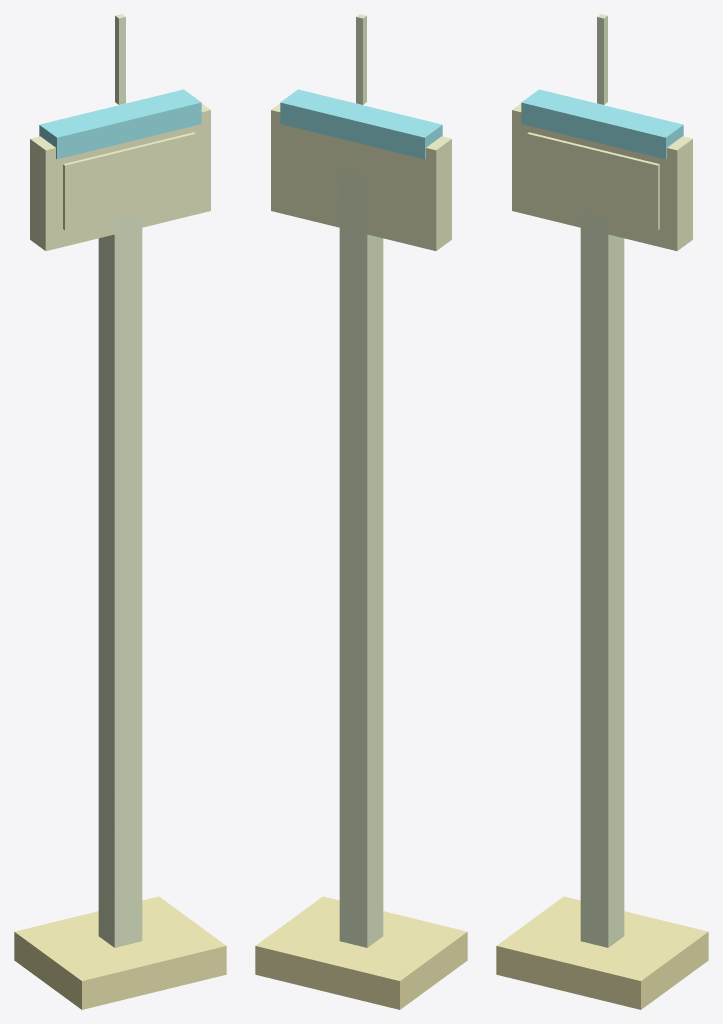
The model's file is furniture_real_time_arrival_display.glb.
The picture shows the model from 3 angles, left to right: view 1: azimuth 30°, elevation 25°; view 2: azimuth 150°, elevation 25°; view 3: azimuth 330°, elevation 25°; orthographic projection.
Visible parts, largest first — view 1: pole, base, display_screen, display_body, display_header, antenna; view 2: pole, display_body, base, display_header, antenna; view 3: pole, base, display_screen, display_body, display_header, antenna.
Part boxes in pixels (x1,y1,x2,y2): pole: (98,212,142,947); base: (14,896,226,1009); display_screen: (63,132,195,230); display_body: (30,103,210,250); display_header: (39,89,201,159); antenna: (115,14,125,104); pole: (339,170,383,947); display_body: (271,103,451,250); base: (255,896,467,1009); display_header: (280,89,442,159); antenna: (356,14,366,104); pole: (580,212,624,947); base: (496,896,708,1009); display_screen: (527,132,659,230); display_body: (512,103,692,250); display_header: (521,89,683,159); antenna: (597,14,607,104).
Bounding box in the file's own units: 0.48 × 2.64 × 0.34.
